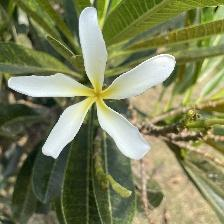champaka: (10, 6, 180, 163)
